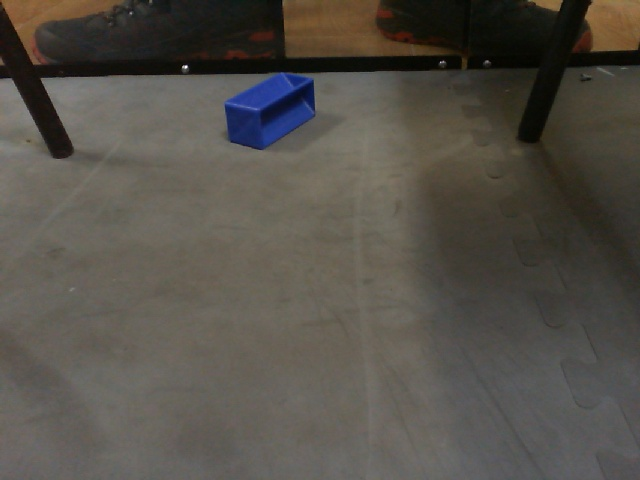BlueSample: (217, 70, 319, 152)
